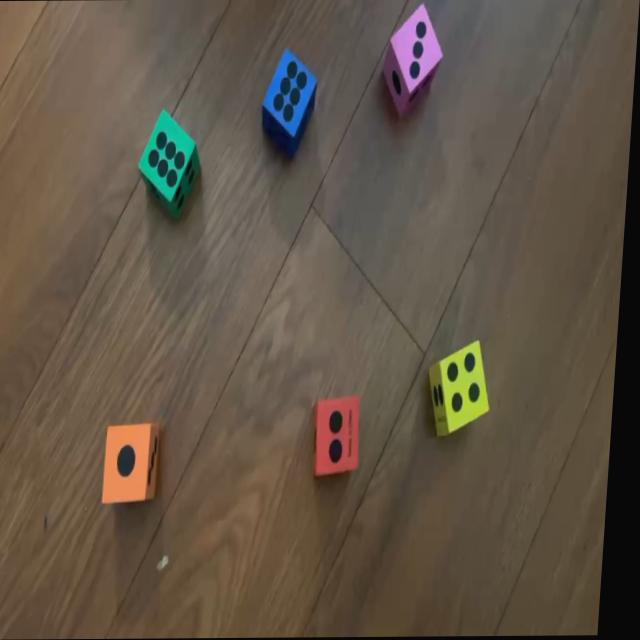blue_block: (259, 42, 327, 152)
red_block: (311, 393, 372, 479)
